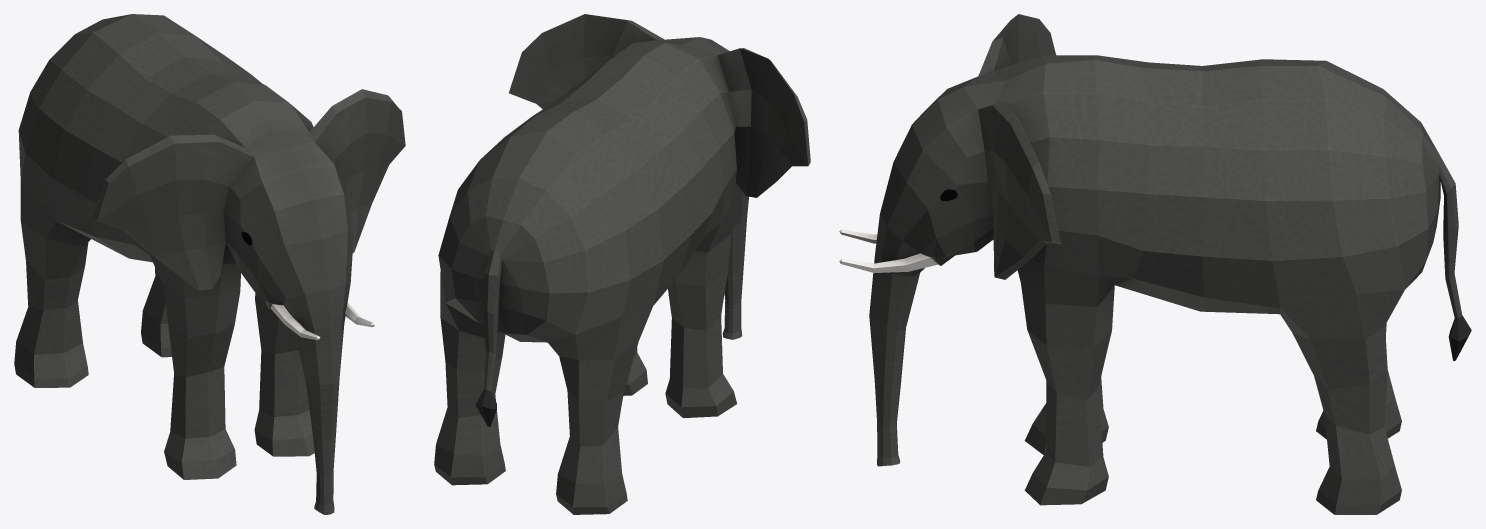
Rendered from elephant.glb.
3 views of the same model, side by side, from view 1: azimuth 30°, elevation 25°; view 2: azimuth 150°, elevation 25°; view 3: azimuth 270°, elevation 25° (orthographic). The views are drawn at different scales.
Visible parts, largest first — view 1: Elephant_Mesh; view 2: Elephant_Mesh; view 3: Elephant_Mesh.
Part boxes in pixels (<box>): Elephant_Mesh: <box>14,14,405,514</box>; Elephant_Mesh: <box>434,14,810,514</box>; Elephant_Mesh: <box>839,14,1471,514</box>.
Size of the model in its own units: 7.45 by 8.29 by 11.72.
Materials: 1 (1 with a texture image).
